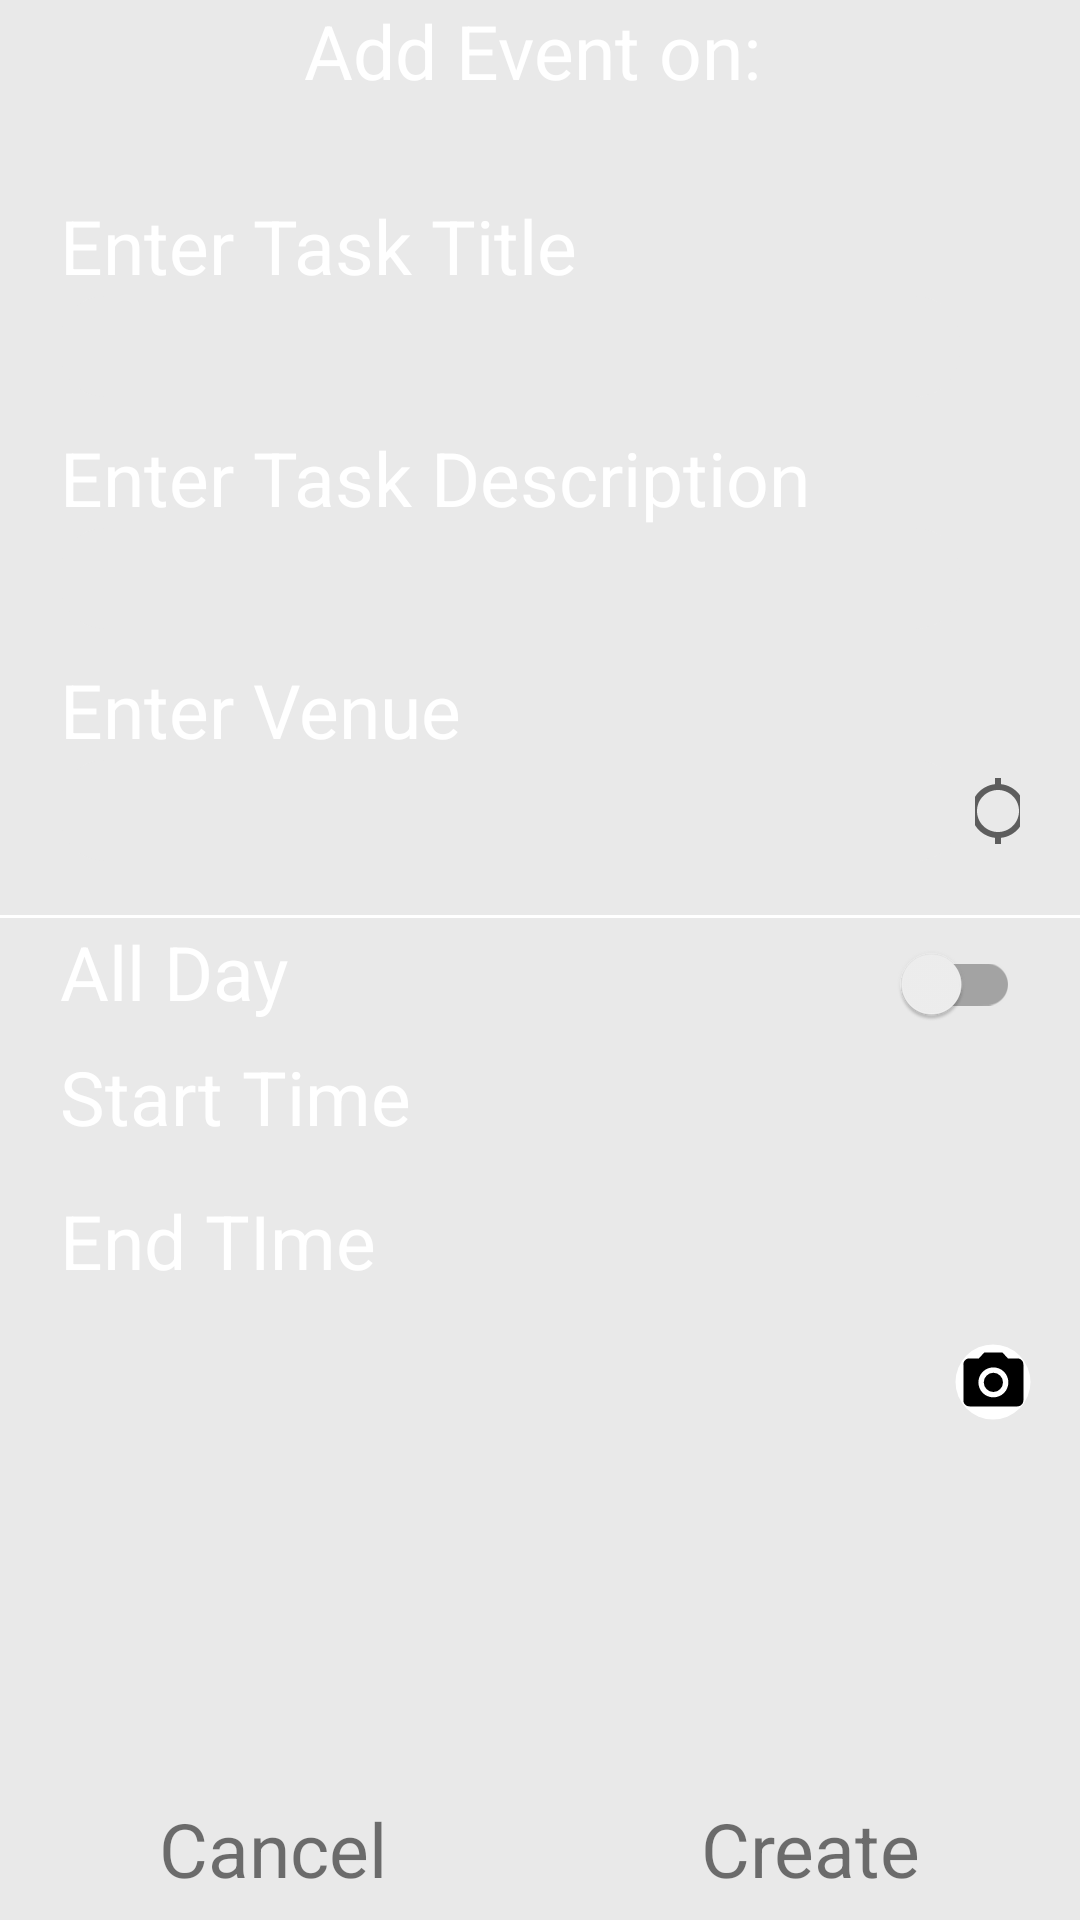

Icons on this 1080 × 1920 Android screen, each with the point to tap as (x,y):
gps not fixed: (997,811)
photo camera: (993,1379)
